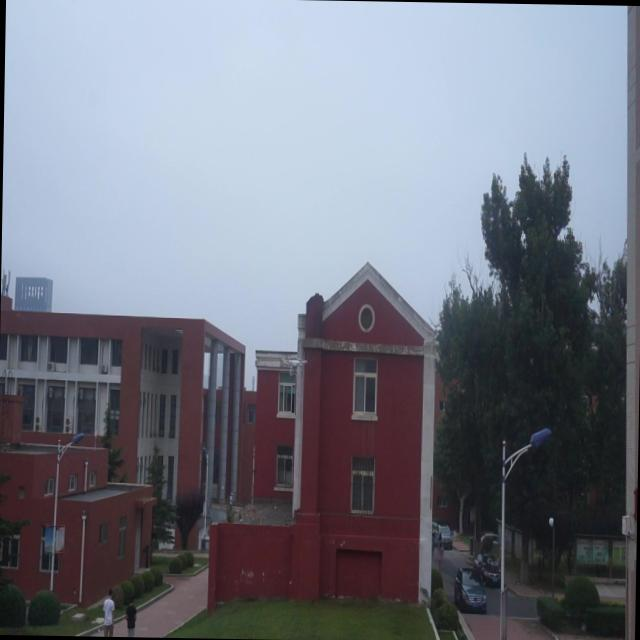drone: (282, 352, 310, 376)
